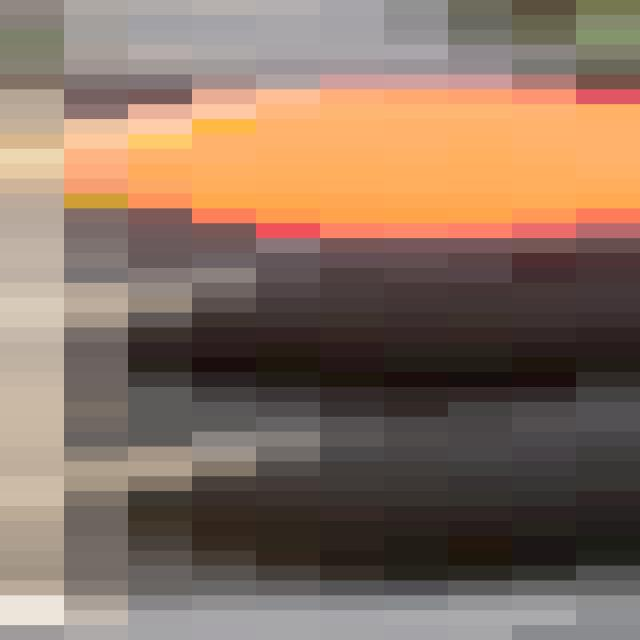red_light: (0, 78, 640, 605)
